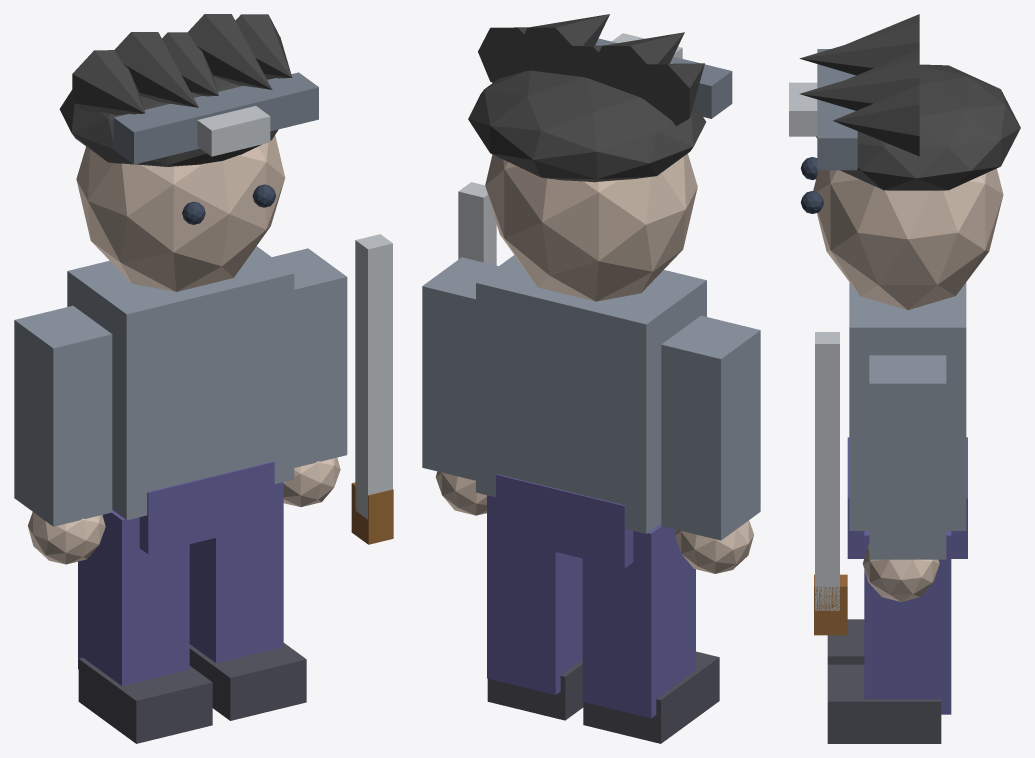
File: sasuke.glb
The picture shows the model from 3 angles, left to right: view 1: azimuth 30°, elevation 25°; view 2: azimuth 150°, elevation 25°; view 3: azimuth 270°, elevation 25°; orthographic projection. The views are drawn at different scales.
Parts seen in each view (by area): view 1: part_000, part_010, part_002, part_004, part_008, part_006, part_020, part_001, part_021, part_005, part_009, part_013 (+9 smaller); view 2: part_000, part_010, part_002, part_013, part_004, part_008, part_006, part_001, part_005, part_017, part_015, part_014 (+7 smaller); view 3: part_010, part_006, part_000, part_013, part_008, part_020, part_009, part_018, part_021, part_015, part_017, part_007 (+5 smaller).
Boxes of the visible parts, x1,y1,x2,y2 form: part_000: (67,246,294,520); part_010: (76,135,285,291); part_002: (14,305,112,526); part_004: (78,510,189,685); part_008: (189,482,283,663); part_006: (272,248,347,467); part_020: (355,234,392,519); part_001: (139,461,274,554); part_021: (113,72,318,164); part_005: (78,657,212,743); part_009: (189,643,306,720); part_013: (59,76,278,166); part_000: (476,255,706,533); part_010: (485,153,697,301); part_002: (661,315,760,540); part_013: (468,70,705,182); part_004: (582,523,695,718); part_008: (487,495,582,694); part_006: (422,257,498,480); part_001: (496,474,633,568); part_005: (583,651,719,743); part_017: (515,14,609,76); part_015: (590,32,684,102); part_014: (627,63,704,126); part_010: (813,168,1003,310); part_006: (869,355,946,559); part_000: (849,282,966,530); part_013: (816,64,1020,190); part_008: (864,531,951,714); part_020: (815,332,839,610); part_009: (827,664,941,743); part_018: (833,85,919,156); part_021: (817,49,857,170); part_015: (799,22,919,75); part_017: (800,58,919,110); part_007: (862,545,939,601).
Size of the model in its own units: 1.08 by 2.17 by 0.6928.
